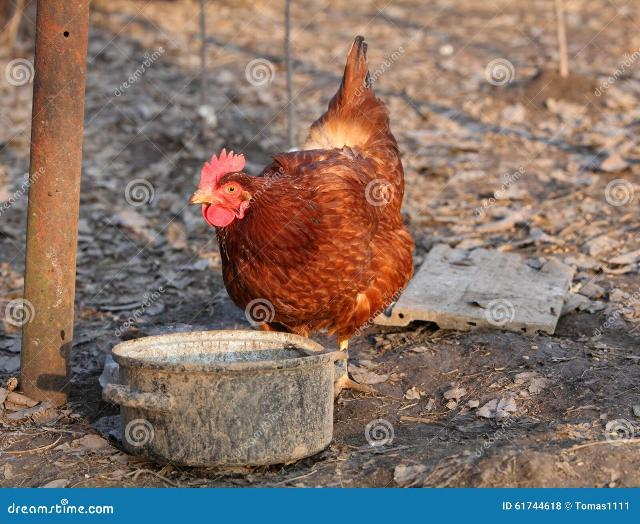Chicken: (194, 33, 415, 399)
